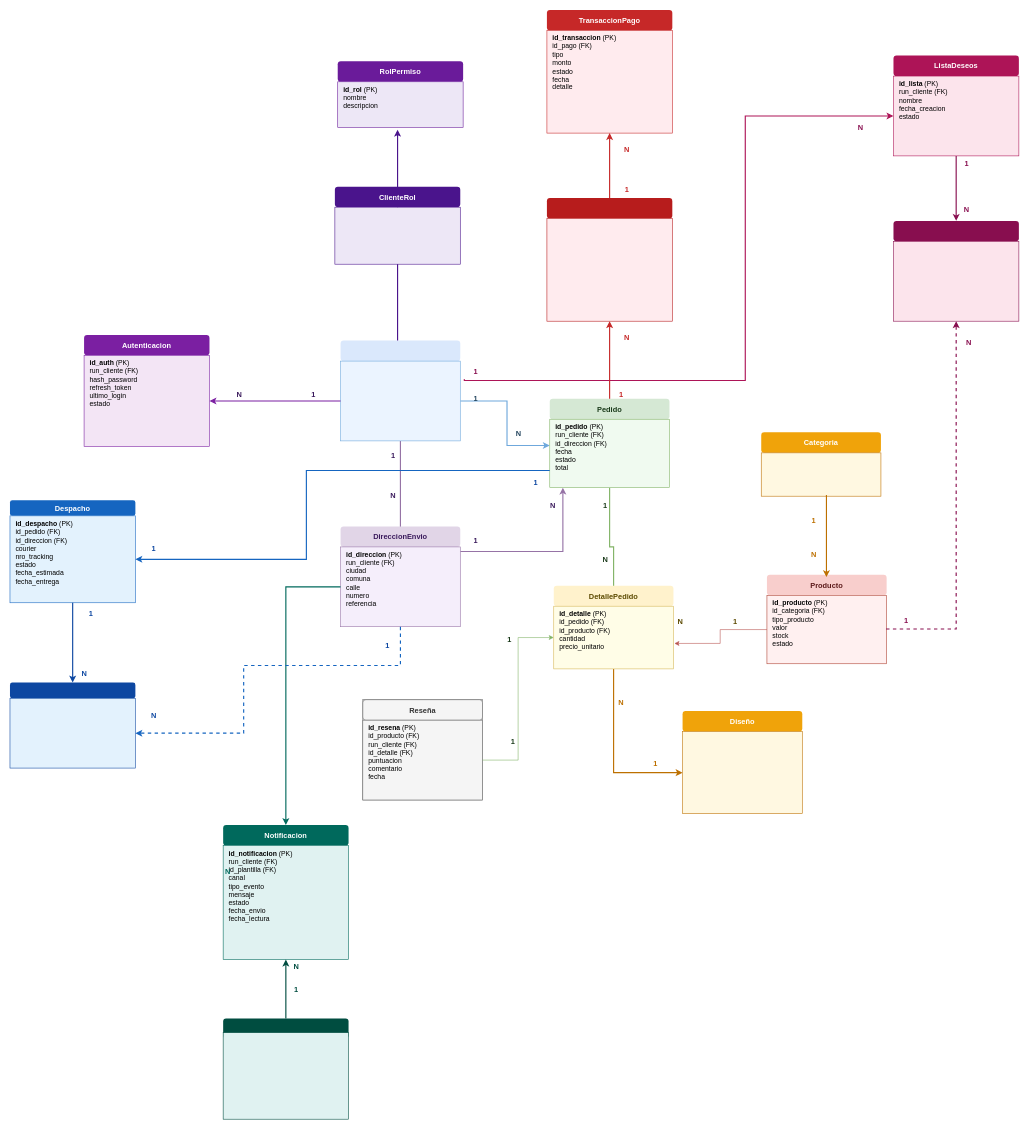
Image size: 1035x1129. Some labels were removed from this diagram. Each missing label, with the centre of its shape:
Cliente: the point at 400,350
id_categoria (PK) nombre descripcion: the point at 821,474
id_cliente_rol (PK) run_cliente (FK) id_rol (FK) fecha_asignacion: the point at 397,235
id_diseño (PK) id_detalle (FK) tamano a_color precio foto dibujo: the point at 742,772
id_item (PK) id_lista (FK) id_producto (FK) fecha_agregado nota: the point at 956,281
id_pago (PK) id_pedido (FK) metodo monto estado fecha_pago referencia_externa: the point at 609,269
id_plantilla (PK) tipo_evento canal asunto cuerpo idioma: the point at 286,1075
id_seguimiento (PK) id_despacho (FK) estado descripcion fecha_evento ubicacion: the point at 72,733
ItemDeseo: the point at 956,231
Pago: the point at 609,208
PlantillaNotificacion: the point at 285,1028
run (PK) primer_nombre segundo_nombre ap_paterno ap_materno correo telefono: the point at 400,401
SeguimientoDespacho: the point at 72,690
